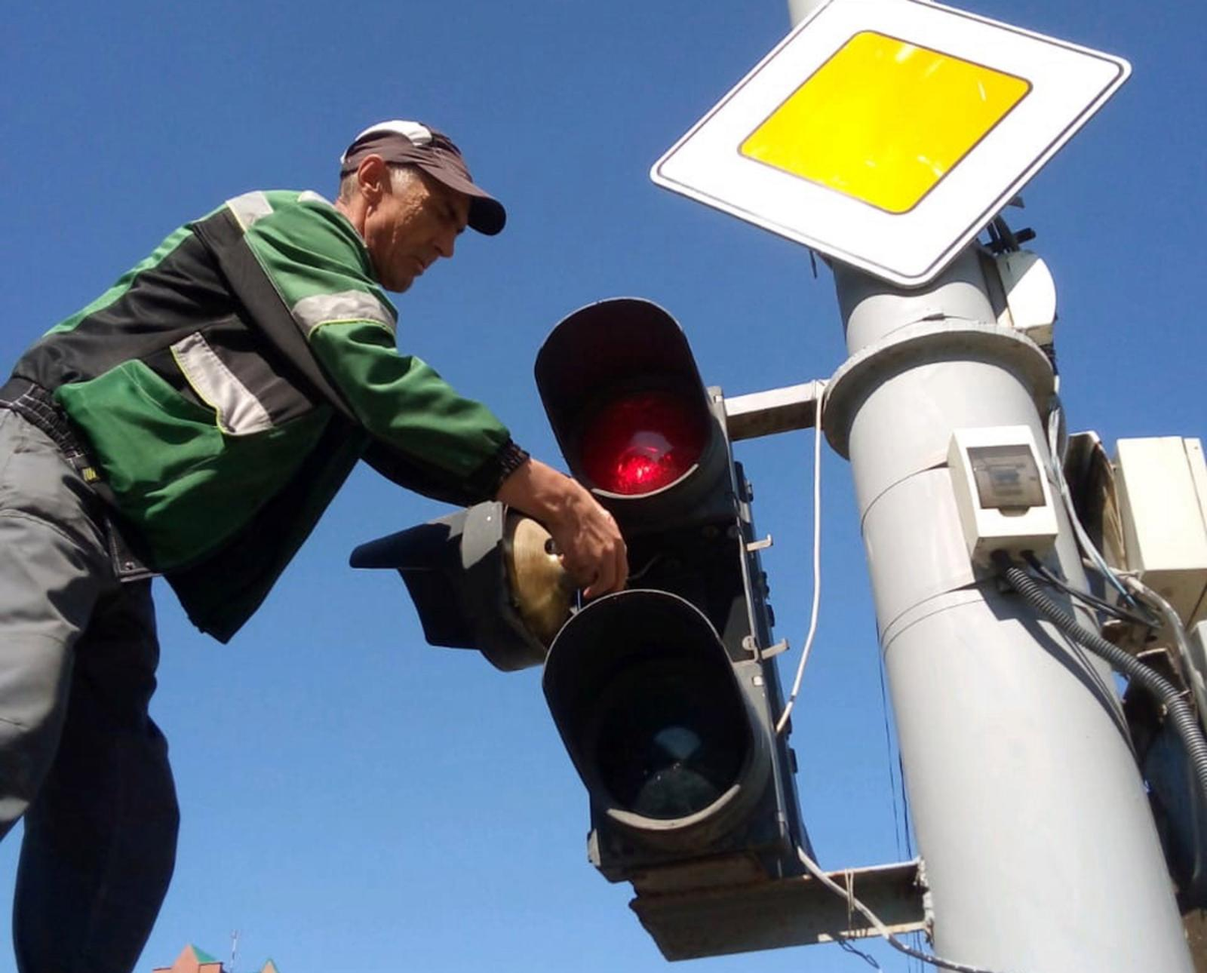road_sign: (655, 1, 1128, 282)
traffic light: (535, 296, 784, 866)
